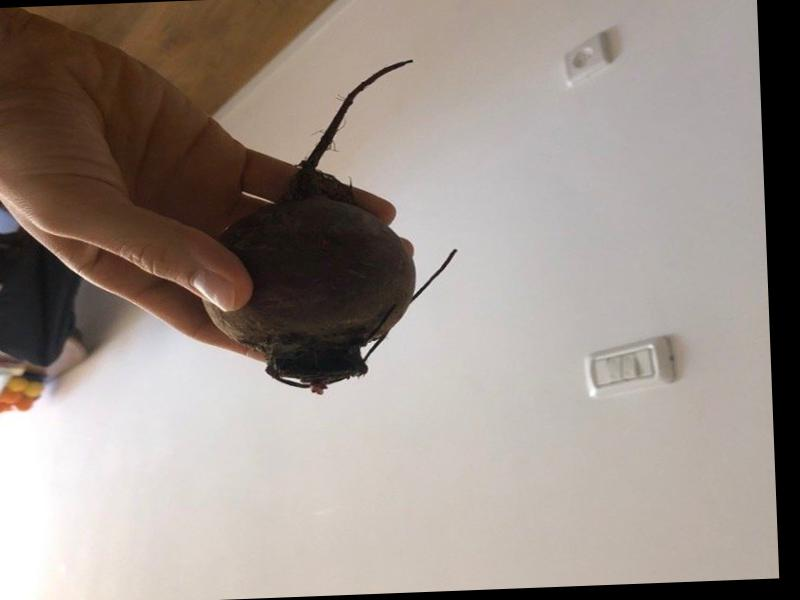Beet: (192, 57, 464, 398)
